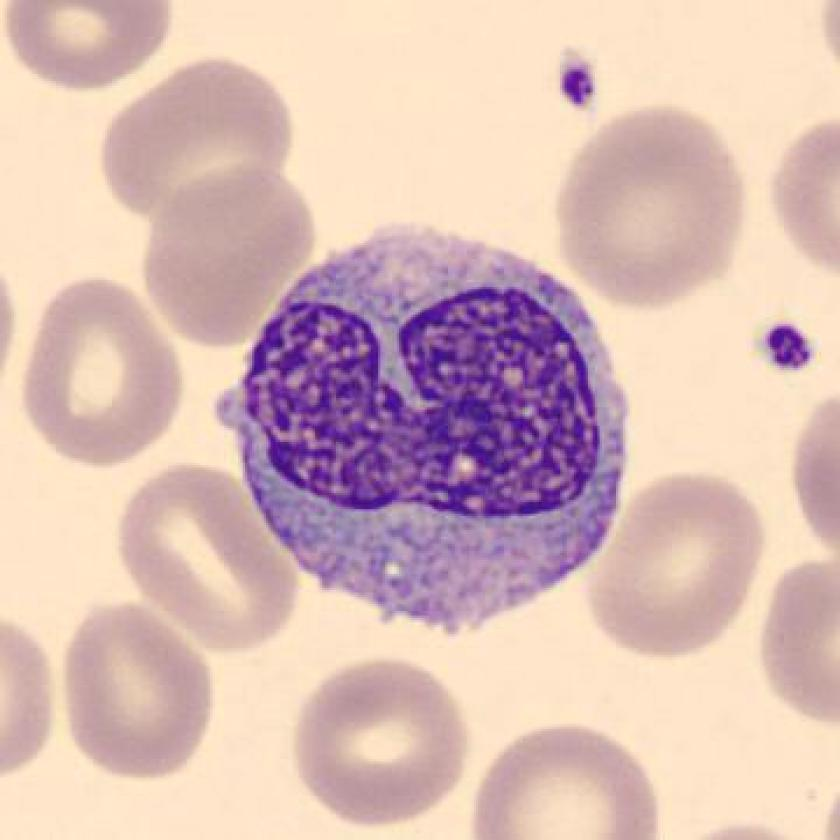monocyte: (200, 200, 655, 656)
